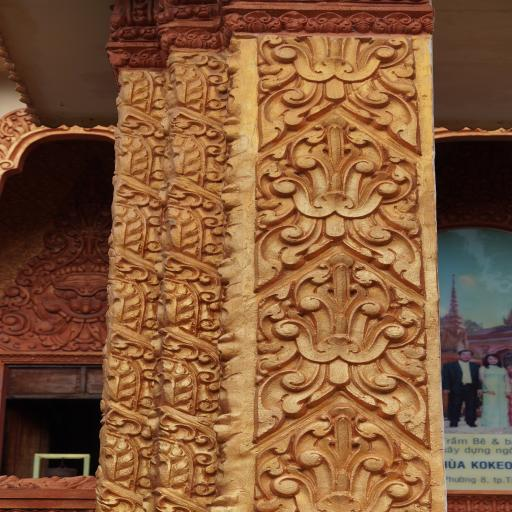la: (282, 410, 408, 466), (295, 253, 391, 321), (156, 407, 218, 509), (340, 77, 424, 152), (260, 37, 413, 77), (159, 331, 227, 421), (351, 213, 430, 288), (156, 254, 224, 340), (286, 122, 390, 178), (166, 106, 230, 194), (102, 332, 162, 420), (164, 177, 222, 268), (260, 78, 332, 149), (97, 407, 153, 496), (373, 288, 427, 380), (110, 178, 166, 266), (356, 365, 428, 430), (367, 444, 434, 512), (113, 105, 166, 188), (260, 216, 318, 290), (107, 260, 159, 340), (255, 359, 315, 427), (168, 50, 230, 115), (257, 292, 306, 370), (260, 446, 312, 512), (372, 152, 416, 224), (118, 65, 170, 119), (255, 154, 294, 224), (372, 10, 420, 35), (230, 9, 282, 32), (306, 9, 352, 32), (175, 28, 218, 50), (348, 10, 384, 33), (274, 10, 308, 32), (128, 50, 169, 68), (418, 13, 438, 34)
than: (3, 194, 107, 352)
